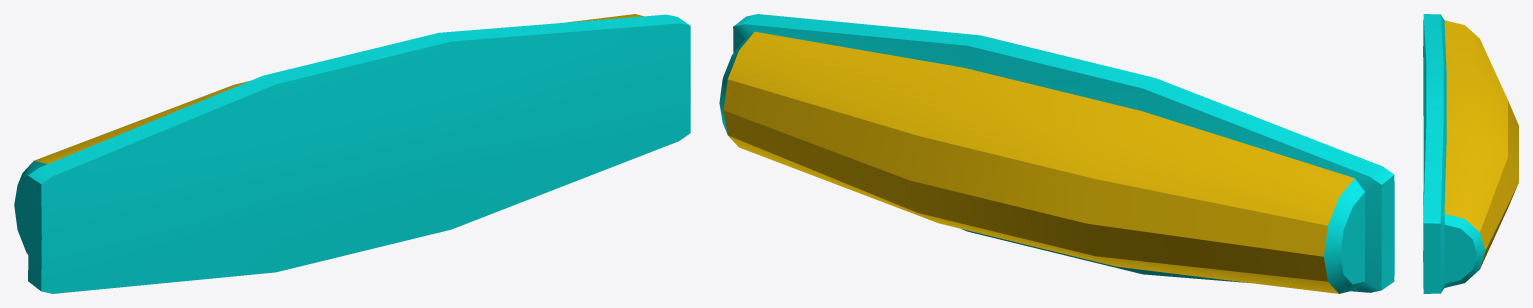
The model's file is Cell_Light.fbx.
3 renders of one model, left to right at view 1: azimuth 30°, elevation 25°; view 2: azimuth 150°, elevation 25°; view 3: azimuth 270°, elevation 25°, orthographic. The views are drawn at different scales.
Visible parts, largest first — view 1: pCylinder1; view 2: pCylinder1; view 3: pCylinder1.
Part boxes in pixels (x1,y1,x2,y2): pCylinder1: [14, 14, 690, 293]; pCylinder1: [719, 14, 1394, 293]; pCylinder1: [1423, 14, 1518, 293].
Bounding box in the file's own units: 359 × 99.18 × 69.33.
